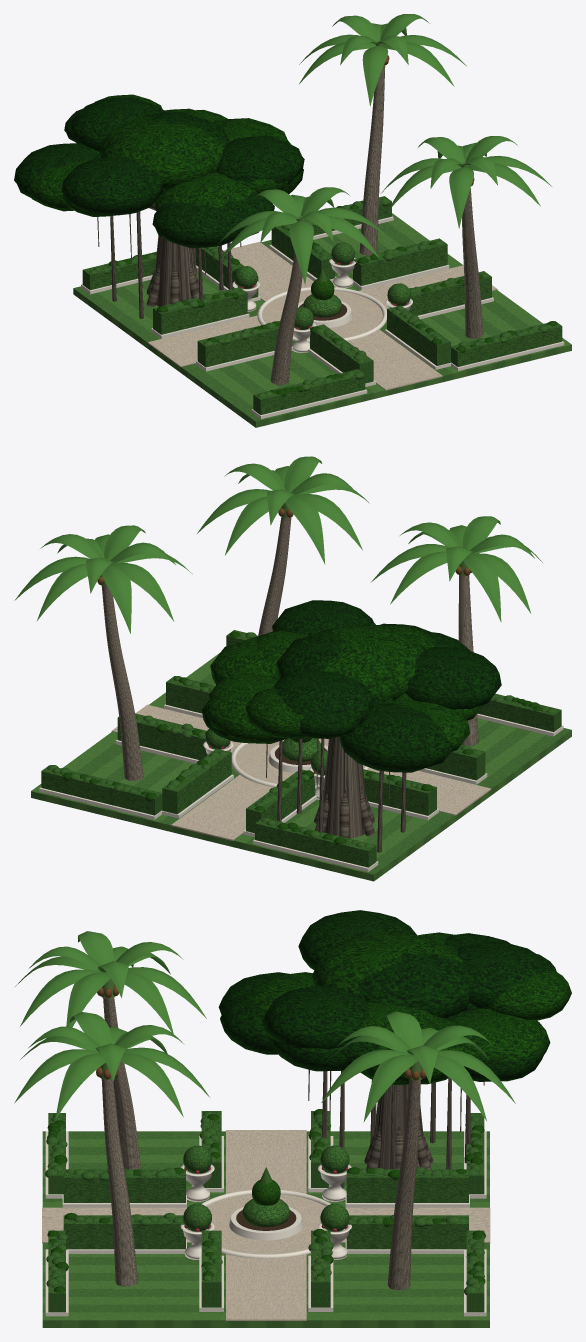
Rendered from colonial_landscaping_tropical.glb.
3 views of the same model, one above another, from view 1: azimuth 30°, elevation 25°; view 2: azimuth 150°, elevation 25°; view 3: azimuth 270°, elevation 25° (orthographic). The views are drawn at different scales.
Visible parts, largest first — view 1: Tropical_Banyan_Tree, Trimmed_Boxwood_Hedges, Manicured_Lawns_And_Paths, Tropical_Palm_Tree (×3); view 2: Tropical_Banyan_Tree, Tropical_Palm_Tree (×3), Trimmed_Boxwood_Hedges, Manicured_Lawns_And_Paths; view 3: Manicured_Lawns_And_Paths, Tropical_Banyan_Tree, Trimmed_Boxwood_Hedges, Tropical_Palm_Tree (×3).
Boxes of the visible parts, box(x1,y1,x2,y2) form: Tropical_Banyan_Tree: box(14, 94, 304, 318); Trimmed_Boxwood_Hedges: box(81, 196, 564, 419); Manicured_Lawns_And_Paths: box(73, 213, 571, 427); Tropical_Palm_Tree (×3): box(217, 14, 551, 384); Tropical_Banyan_Tree: box(201, 600, 501, 852); Tropical_Palm_Tree (×3): box(14, 456, 542, 781); Trimmed_Boxwood_Hedges: box(39, 630, 563, 871); Manicured_Lawns_And_Paths: box(31, 652, 571, 881); Manicured_Lawns_And_Paths: box(42, 1130, 490, 1327); Tropical_Banyan_Tree: box(218, 910, 571, 1188); Trimmed_Boxwood_Hedges: box(45, 1109, 486, 1316); Tropical_Palm_Tree (×3): box(14, 931, 515, 1289).
Bounding box in the file's own units: 11.04 × 5.84 × 10.73.
14 materials, 8 textured.
